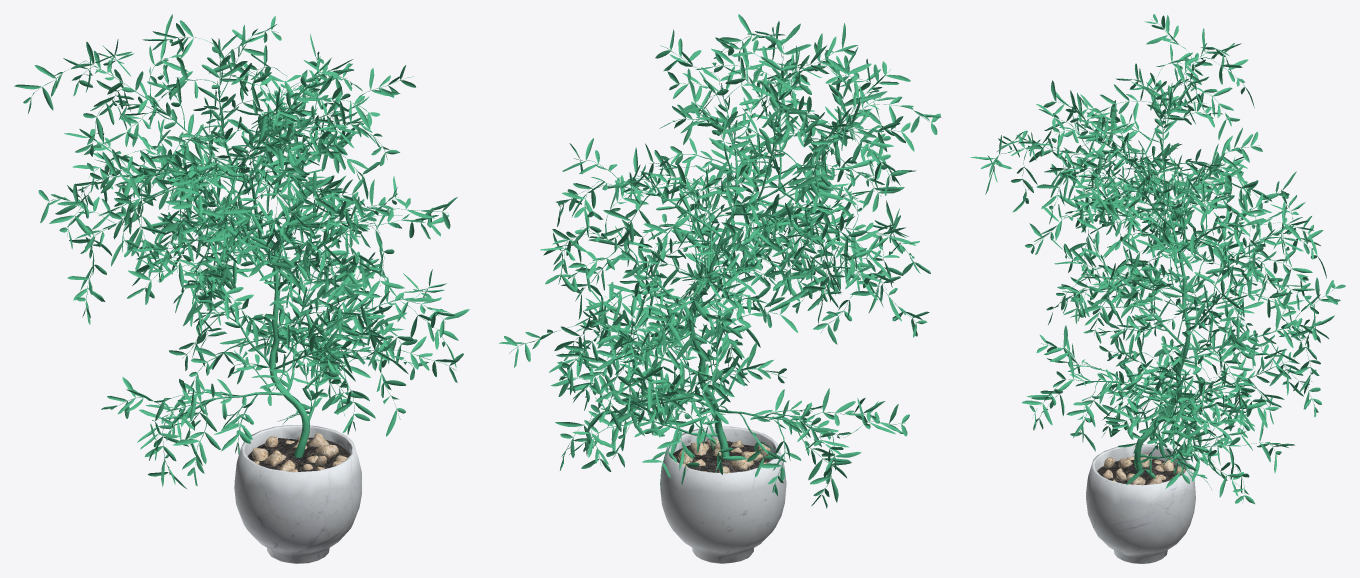
File: plant.glb
3 views of the same model, side by side, from view 1: azimuth 30°, elevation 25°; view 2: azimuth 150°, elevation 25°; view 3: azimuth 270°, elevation 25° (orthographic). The views are drawn at different scales.
Visible parts, largest first — view 1: kust, gorshok, kamni, zemlia; view 2: kust, gorshok, kamni, zemlia; view 3: kust, gorshok, kamni, zemlia.
Part boxes in pixels (left/top/right/bottom): kust: left=14, top=14, right=469, bottom=488; gorshok: left=234, top=425, right=361, bottom=563; kamni: left=252, top=432, right=347, bottom=472; zemlia: left=248, top=437, right=350, bottom=471; kust: left=499, top=14, right=941, bottom=508; gorshok: left=660, top=426, right=786, bottom=563; kamni: left=678, top=438, right=770, bottom=473; zemlia: left=672, top=440, right=771, bottom=472; kust: left=970, top=14, right=1345, bottom=503; gorshok: left=1086, top=444, right=1195, bottom=563; kamni: left=1102, top=454, right=1184, bottom=485; zemlia: left=1097, top=459, right=1181, bottom=484.
Size of the model in its own units: 0.4196 by 0.5202 by 0.3783.
Materials: 4 (3 with a texture image).
